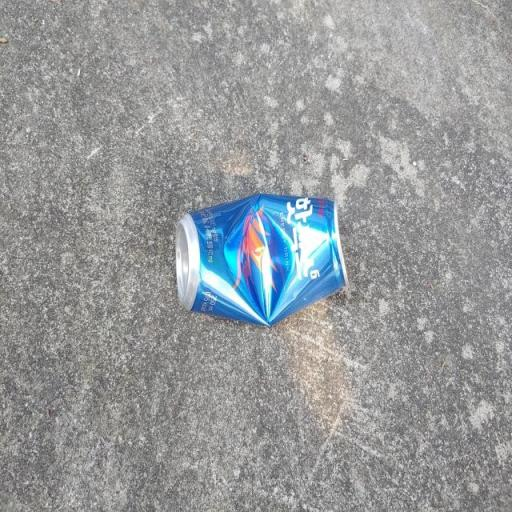metal: (152, 164, 353, 329)
